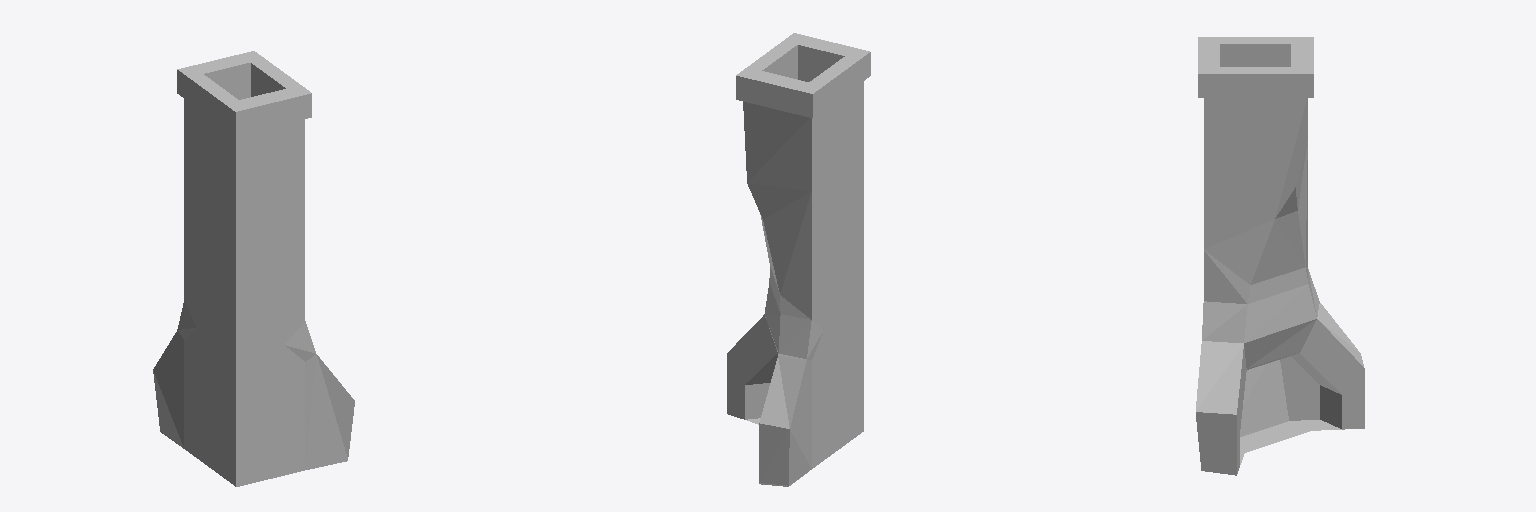
File: Chimney.obj
3 renders of one model, left to right at view 1: azimuth 30°, elevation 25°; view 2: azimuth 150°, elevation 25°; view 3: azimuth 270°, elevation 25°, orthographic.
Visible parts, largest first — view 1: Chimney; view 2: Chimney; view 3: Chimney.
Boxes of the visible parts, box(x1,y1,x2,y2) form: Chimney: box(153, 51, 354, 486); Chimney: box(727, 33, 870, 486); Chimney: box(1196, 37, 1364, 475).
Bounding box in the file's own units: 14.24 × 41.24 × 16.69.